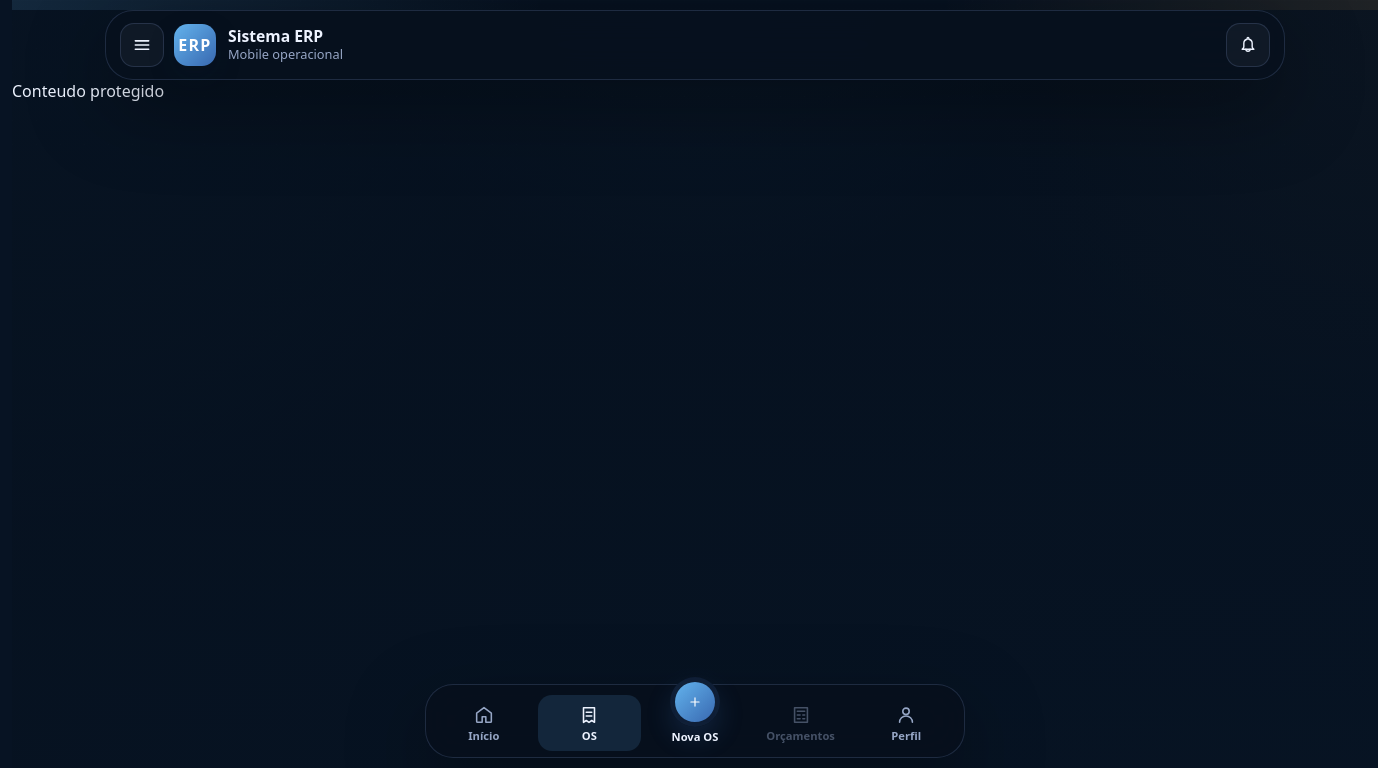
AuthenticatedShell navigation › moves installation to the hamburger menu and profile to the bottom navigation
Check: the menu item "Instalar app" is not shown
Click the button named "Abrir menu principal": (142, 45) [120,23,164,67]
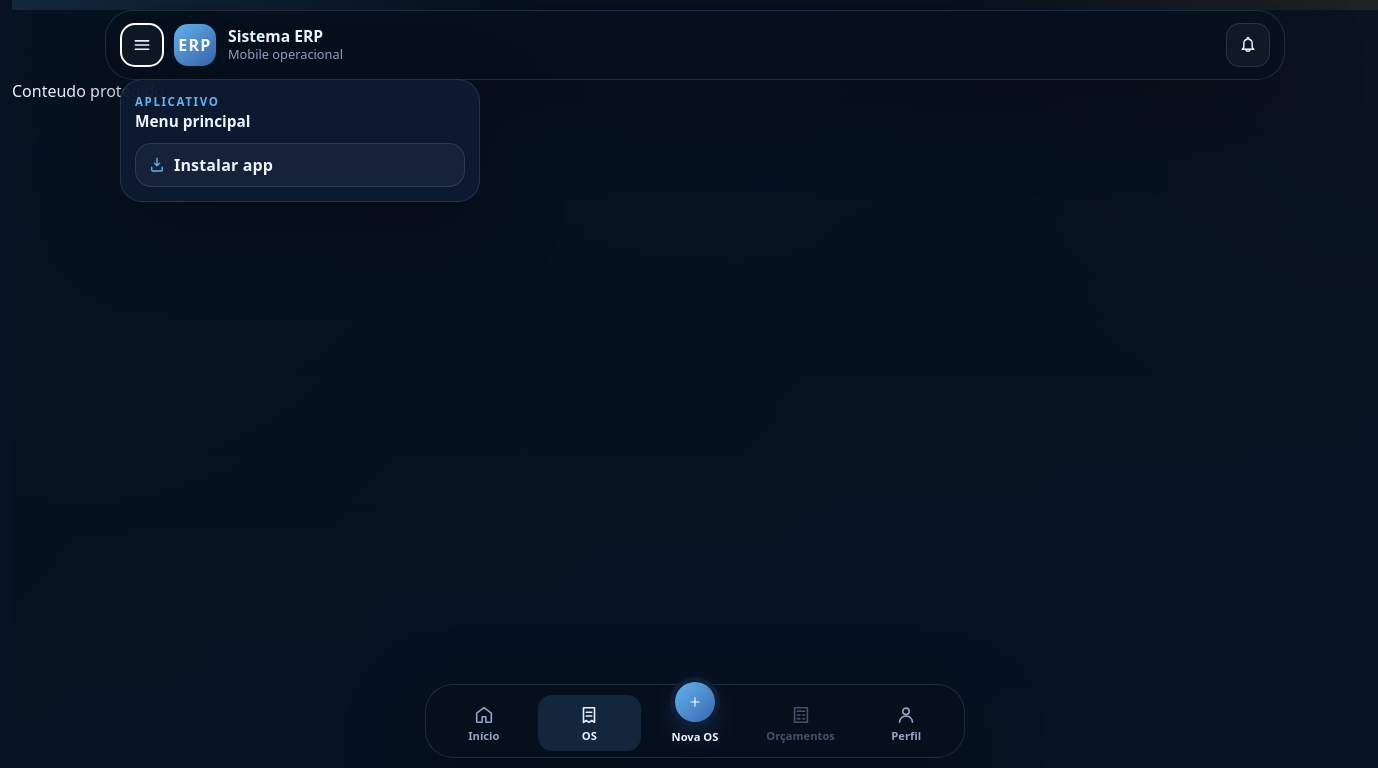
Check: the menu "Menu principal" is shown, box [120,79,480,202]
Check: the menu item "Instalar app" is shown, box [135,143,465,187]
Click the button with aria-label "Abrir perfil do usuário": (906, 723) [854,695,958,751]
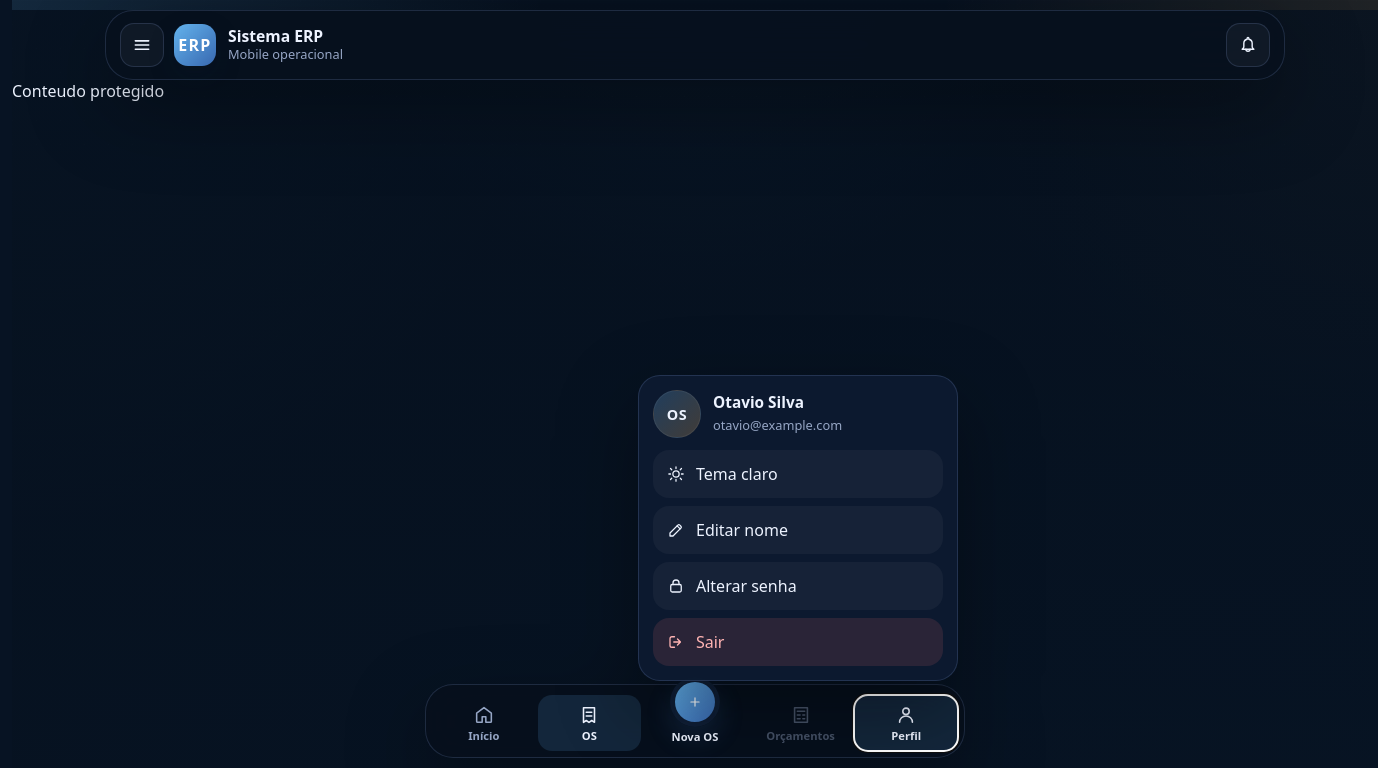
Check: the text "Menu principal" is gone
Check: the menu named "Menu de perfil" is shown, box [638,375,958,681]
Check: the text "otavio@example.com" is shown, box [713,416,842,434]
